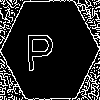P: (25, 25, 55, 71)
